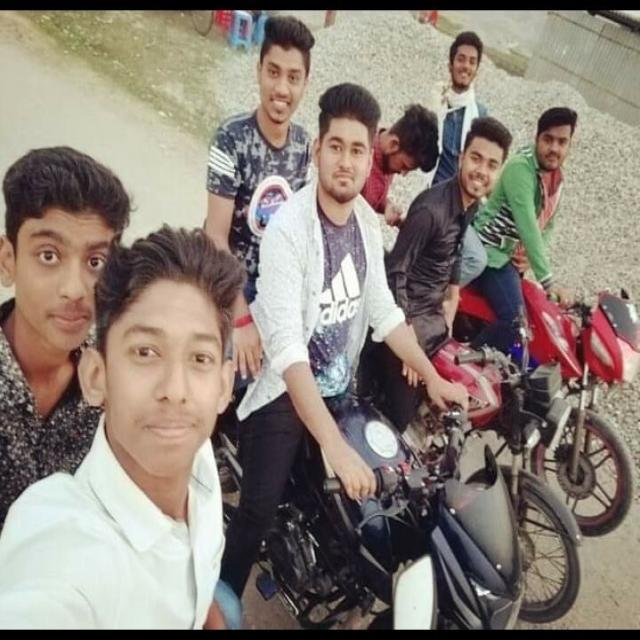No_Helmet: (297, 66, 388, 226), (444, 92, 508, 216), (529, 64, 579, 200)
